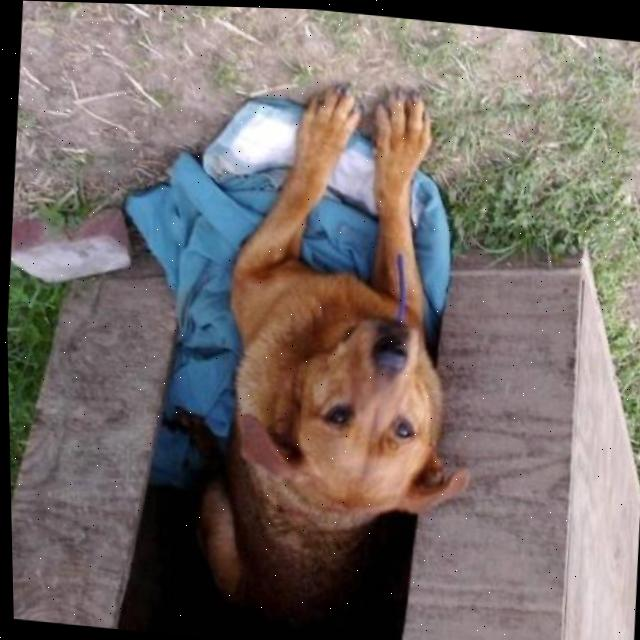dogs: (158, 61, 485, 640)
